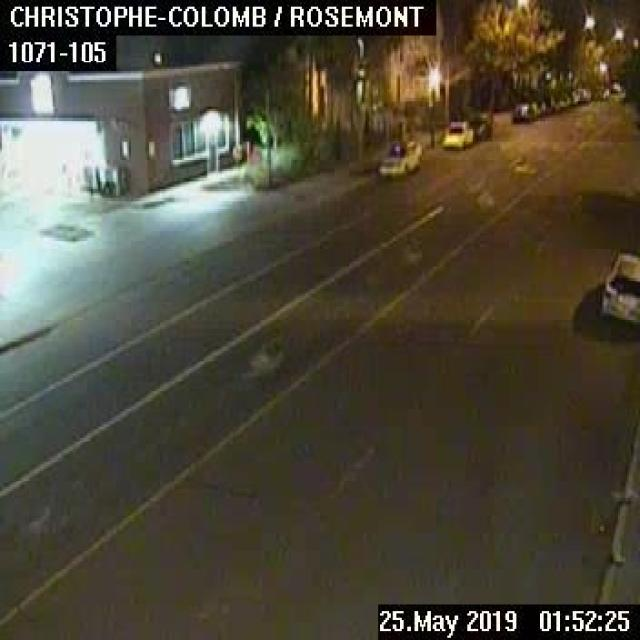vehicle: (600, 252, 638, 322), (378, 137, 421, 175), (442, 121, 471, 147), (468, 113, 491, 141), (511, 101, 534, 121)
